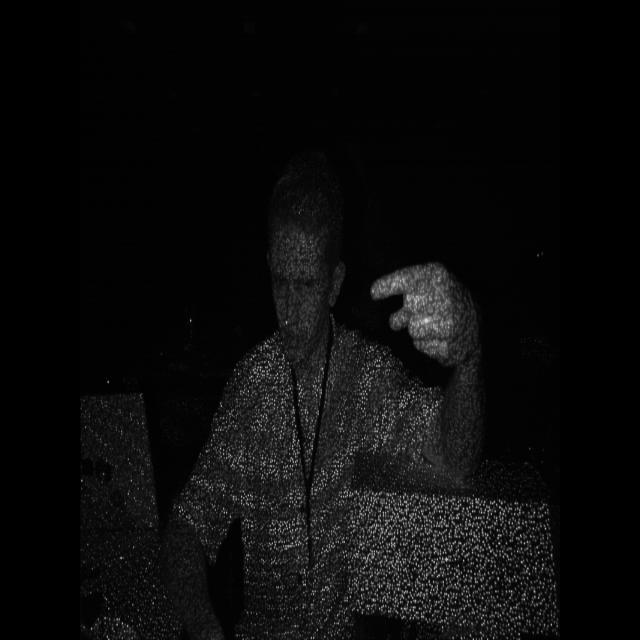G: (364, 249, 489, 383)
